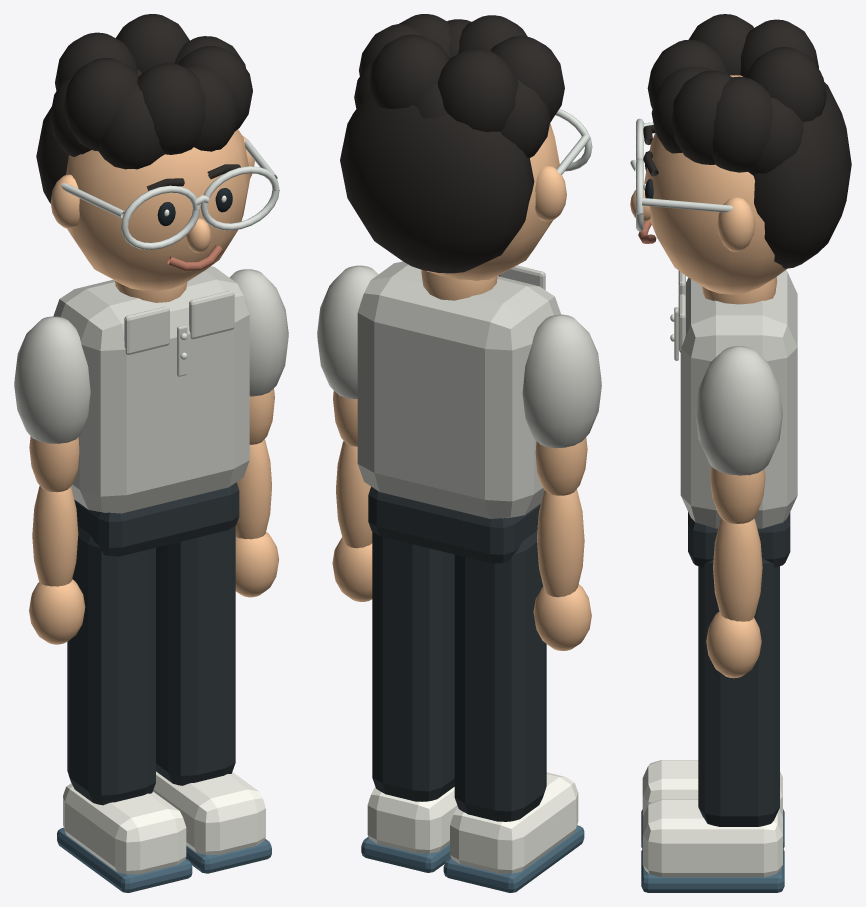
The model's file is dad.glb.
3 views of the same model, side by side, from view 1: azimuth 30°, elevation 25°; view 2: azimuth 150°, elevation 25°; view 3: azimuth 270°, elevation 25° (orthographic). The views are drawn at different scales.
Parts seen in each view (by area): view 1: FamilyRoot_Geometry, Leg_L_Geometry, Leg_R_Geometry, Arm_L_Geometry, Elbow_L_Geometry, Arm_R_Geometry, Elbow_R_Geometry; view 2: FamilyRoot_Geometry, Leg_L_Geometry, Leg_R_Geometry, Arm_L_Geometry, Elbow_L_Geometry, Arm_R_Geometry, Elbow_R_Geometry; view 3: FamilyRoot_Geometry, Leg_R_Geometry, Arm_R_Geometry, Elbow_R_Geometry, Leg_L_Geometry.
Boxes of the visible parts, box(x1,y1,x2,y2) form: FamilyRoot_Geometry: box(36, 14, 279, 556); Leg_L_Geometry: box(57, 526, 192, 892); Leg_R_Geometry: box(153, 525, 271, 873); Arm_L_Geometry: box(14, 316, 90, 492); Elbow_L_Geometry: box(29, 486, 85, 644); Arm_R_Geometry: box(229, 269, 288, 444); Elbow_R_Geometry: box(235, 439, 278, 597); FamilyRoot_Geometry: box(340, 14, 592, 563); Leg_L_Geometry: box(443, 531, 584, 892); Leg_R_Geometry: box(361, 531, 457, 872); Arm_L_Geometry: box(522, 314, 601, 495); Elbow_L_Geometry: box(533, 489, 591, 650); Arm_R_Geometry: box(317, 265, 378, 446); Elbow_R_Geometry: box(332, 441, 372, 601); FamilyRoot_Geometry: box(630, 14, 851, 567); Leg_R_Geometry: box(641, 558, 784, 892); Arm_R_Geometry: box(695, 346, 782, 523); Elbow_R_Geometry: box(706, 518, 762, 678); Leg_L_Geometry: box(641, 760, 784, 848).
Bounding box in the file's own units: 1.06 × 3.09 × 0.758.
